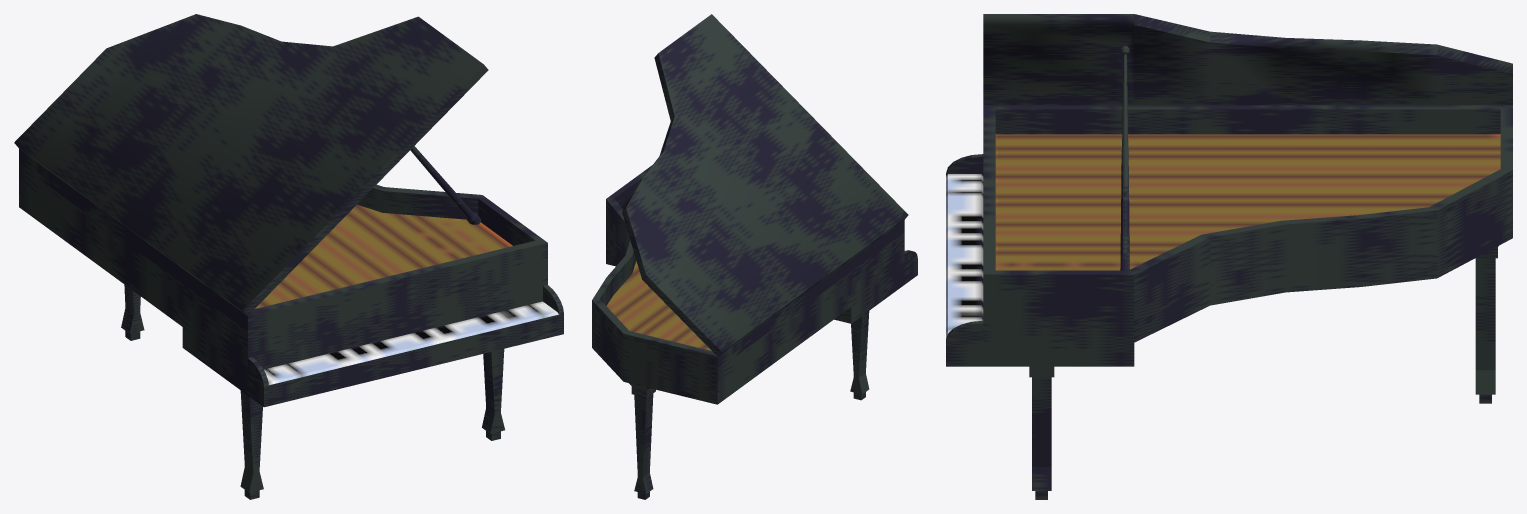
File: Piano.fbx
3 views of the same model, side by side, from view 1: azimuth 30°, elevation 25°; view 2: azimuth 150°, elevation 25°; view 3: azimuth 270°, elevation 25° (orthographic). The views are drawn at different scales.
Visible parts, largest first — view 1: Cube; view 2: Cube; view 3: Cube.
Boxes of the visible parts, x1,y1,x2,y2 form: Cube: (14, 14, 563, 499); Cube: (592, 14, 917, 499); Cube: (946, 14, 1512, 499).
Bounding box in the file's own units: 0.6015 × 0.8371 × 0.7552.
3 materials, 3 textured.
